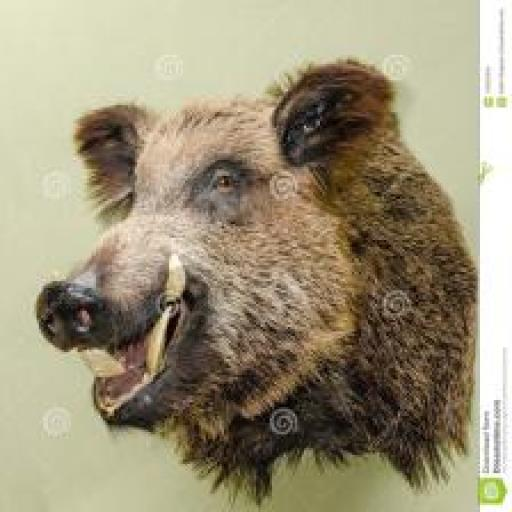Pig: (36, 57, 479, 509)
